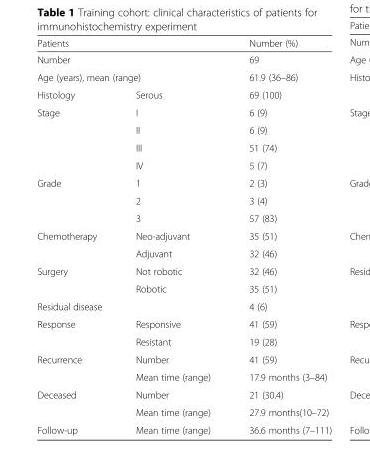table: (36, 37, 331, 435)
table column: (115, 37, 229, 435), (229, 37, 331, 435), (36, 37, 115, 435)
table column header: (36, 37, 331, 103)
table row: (36, 50, 331, 68), (36, 85, 331, 103), (36, 120, 331, 138), (36, 138, 331, 156), (36, 173, 331, 191), (36, 191, 331, 209), (36, 226, 331, 244), (36, 244, 331, 262), (36, 279, 331, 297), (36, 314, 331, 332), (36, 332, 331, 350), (36, 367, 331, 385), (36, 385, 331, 403), (36, 68, 331, 85), (36, 103, 331, 120), (36, 156, 331, 173), (36, 209, 331, 226), (36, 262, 331, 279), (36, 297, 331, 314), (36, 350, 331, 367), (36, 403, 331, 420), (36, 420, 331, 435), (36, 37, 331, 50)
table spanning cell: (36, 37, 229, 85), (229, 37, 331, 103), (36, 103, 115, 173), (36, 173, 115, 226), (36, 297, 229, 314), (36, 226, 115, 262), (36, 314, 115, 350), (36, 262, 115, 297), (36, 350, 115, 385), (36, 385, 115, 420)
